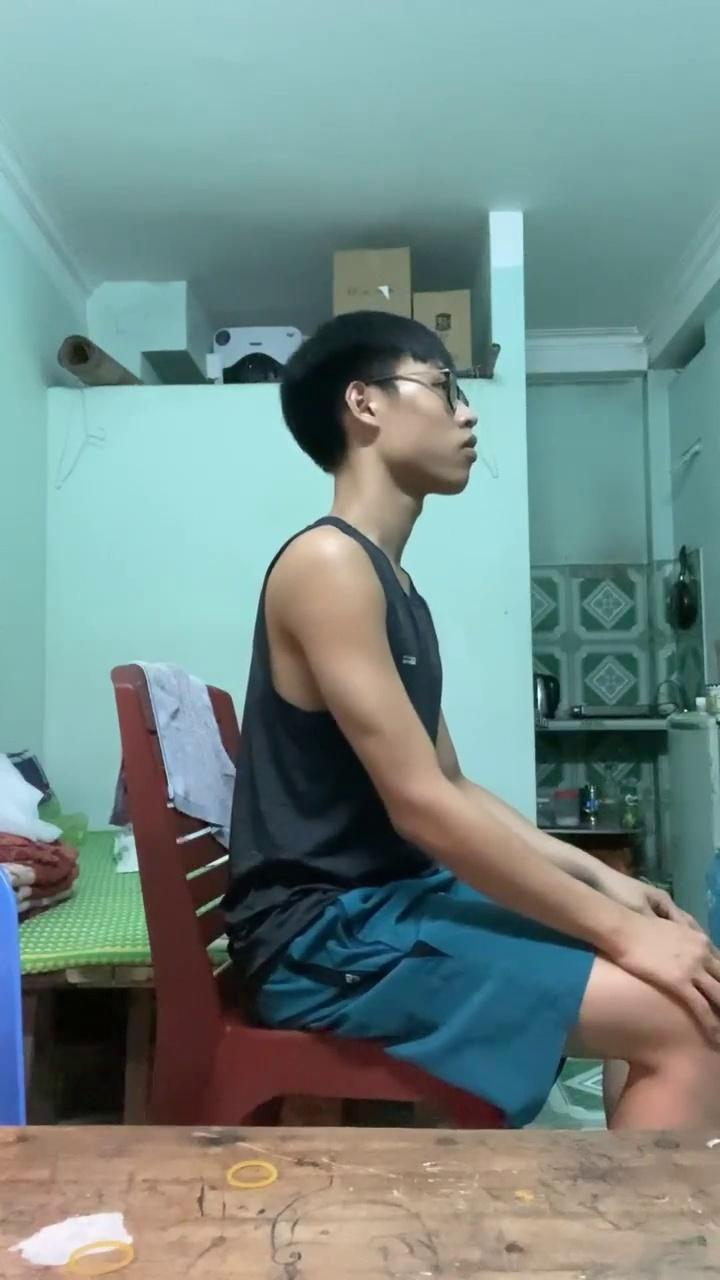GoodPosture: (226, 304, 594, 1122)
